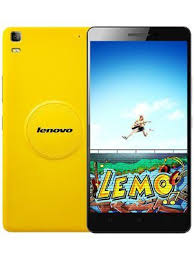lenovo: (83, 26, 191, 234)
